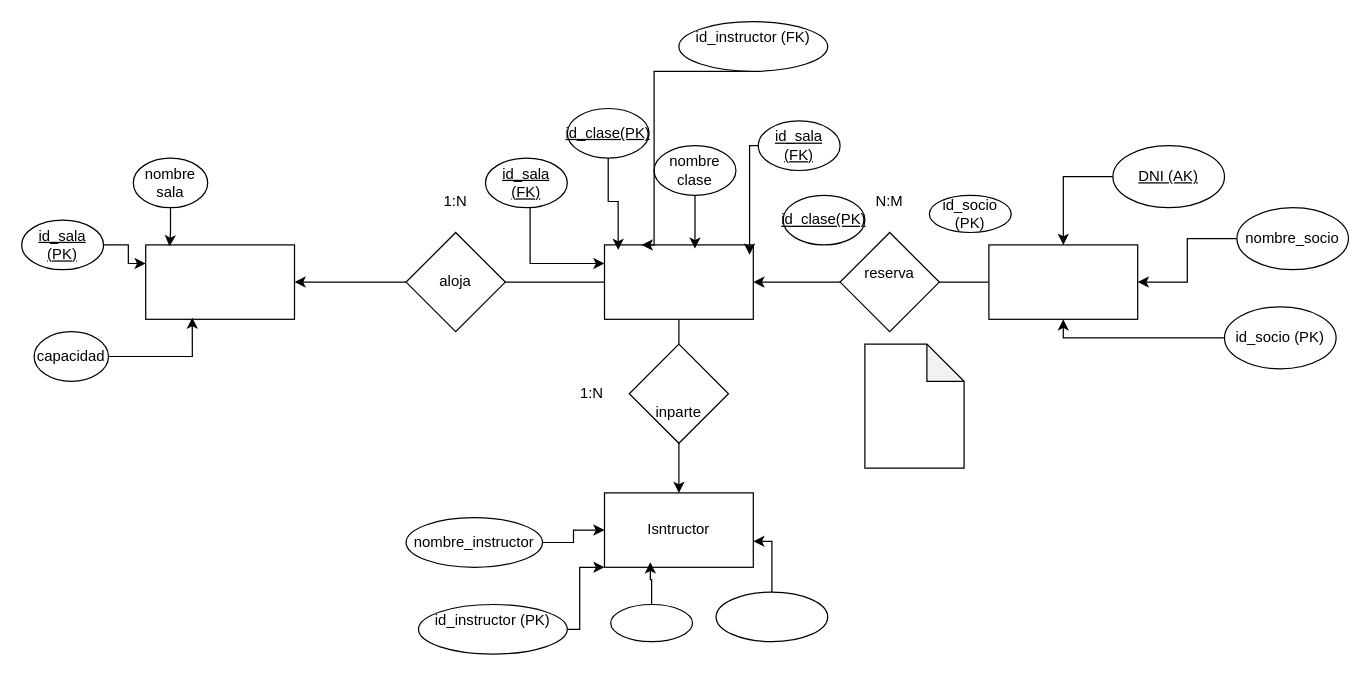
Image size: 1370x676. Some labels were removed from this diagram. The shapes that lost their labels are listed below. From the top down, each one's centre as x and y in pixels, then its label:
(x=219, y=281): Sala
(x=678, y=281): Clase
(x=1063, y=281): Socio
(x=914, y=405): se convierte en tabla intermedia
(x=651, y=622): email (AK)
(x=771, y=616): telefono (AK)
